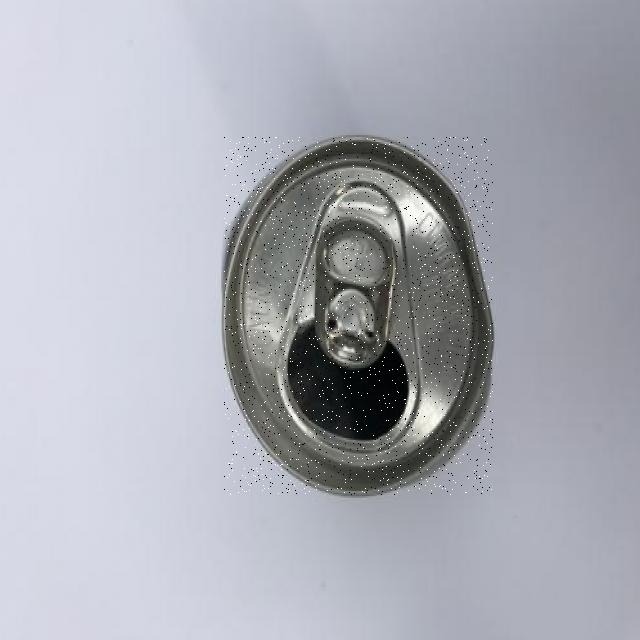metal: (224, 137, 493, 495)
